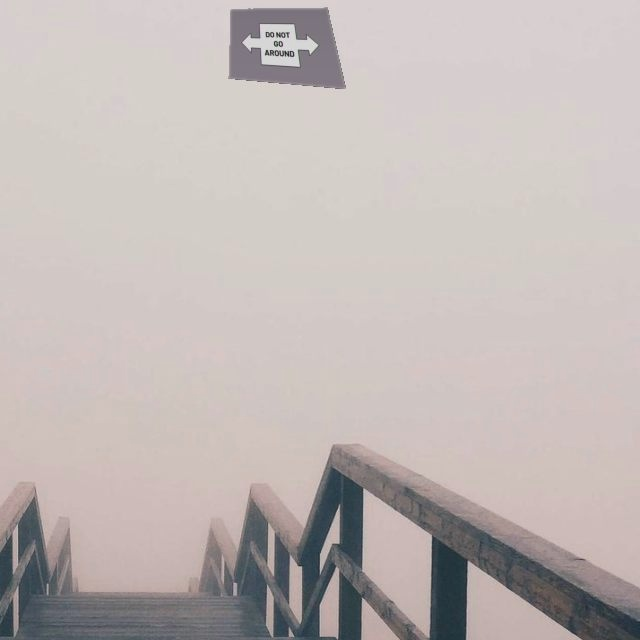DO_NOT_GO_AROUND: (241, 22, 324, 71)
